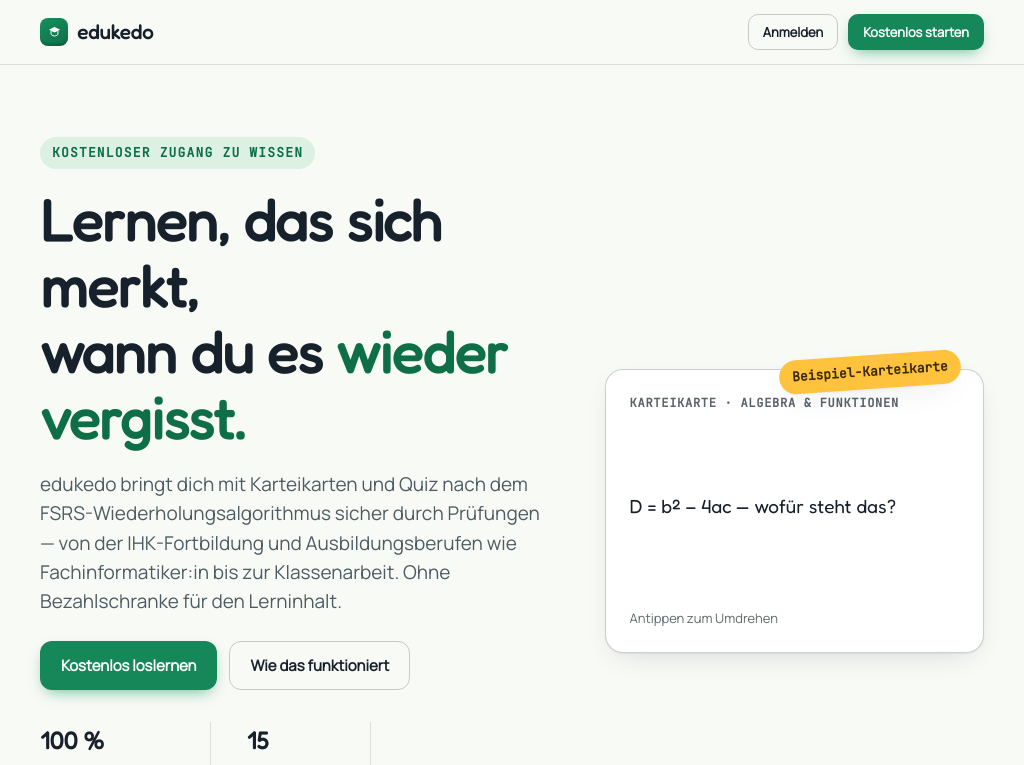
Test: Anmeldung und Registrierung für Gäste (F-08, F-159) › zeigt den Fehler einer fehlgeschlagenen Anmeldung
Click the button "Anmelden".
click(793, 32)  # box [748,14,838,50]
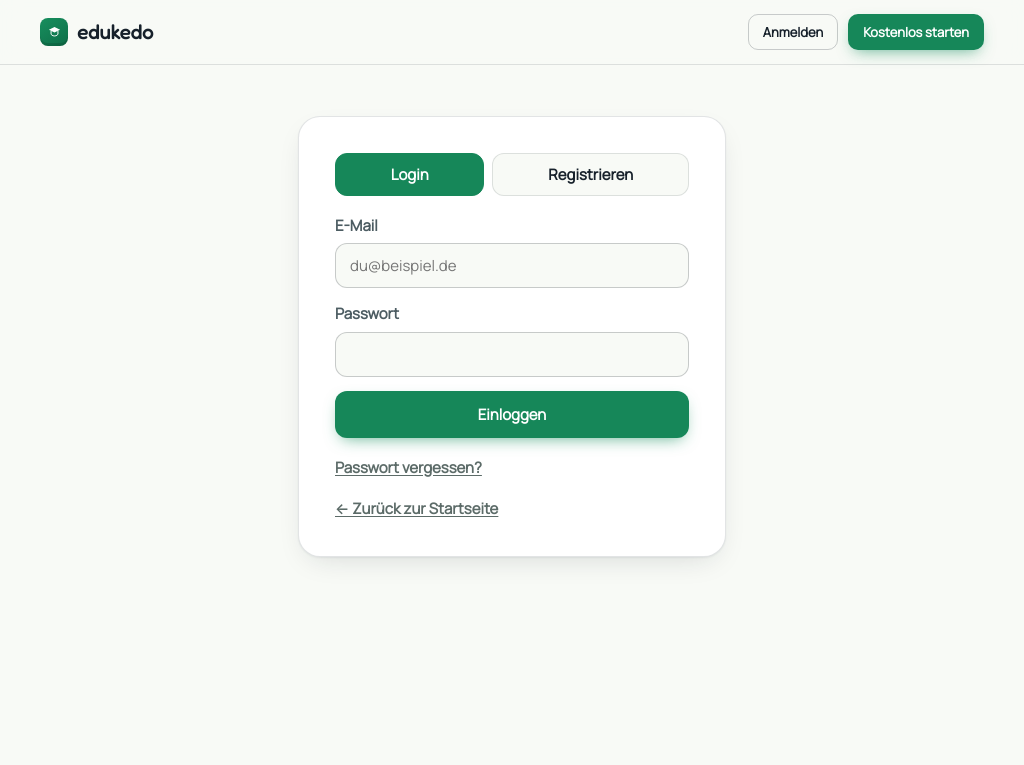
Type "lernende@example.test" into the field labelled "E-Mail".
click(512, 266); type("lernende@example.test")  # box [335,243,689,288]
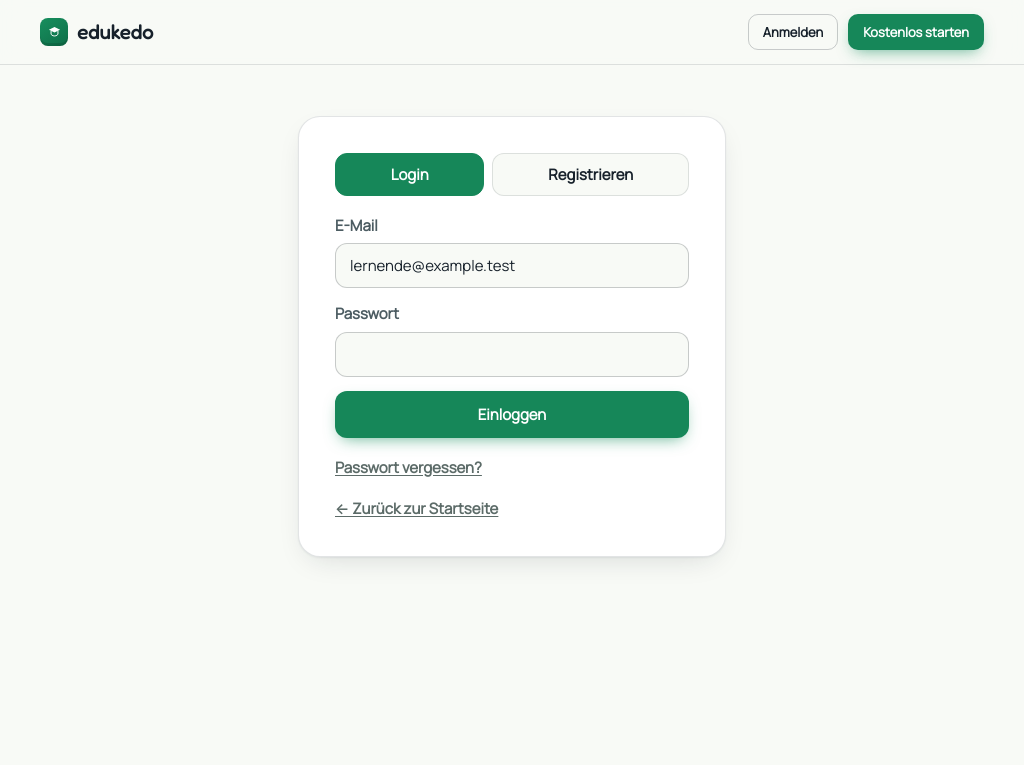
Type "falsches-Passwort" into the password field labelled "Passwort".
click(512, 354); type("falsches-Passwort")  # box [335,332,689,377]
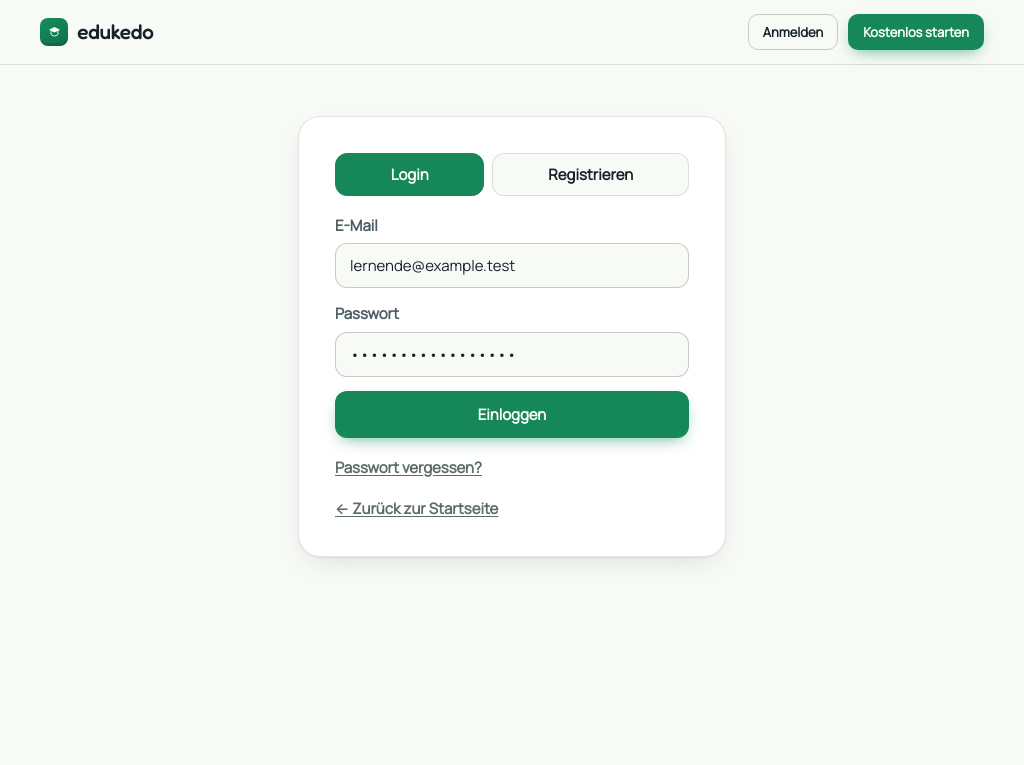
Click the button "Einloggen".
click(512, 414)  # box [335,391,689,438]
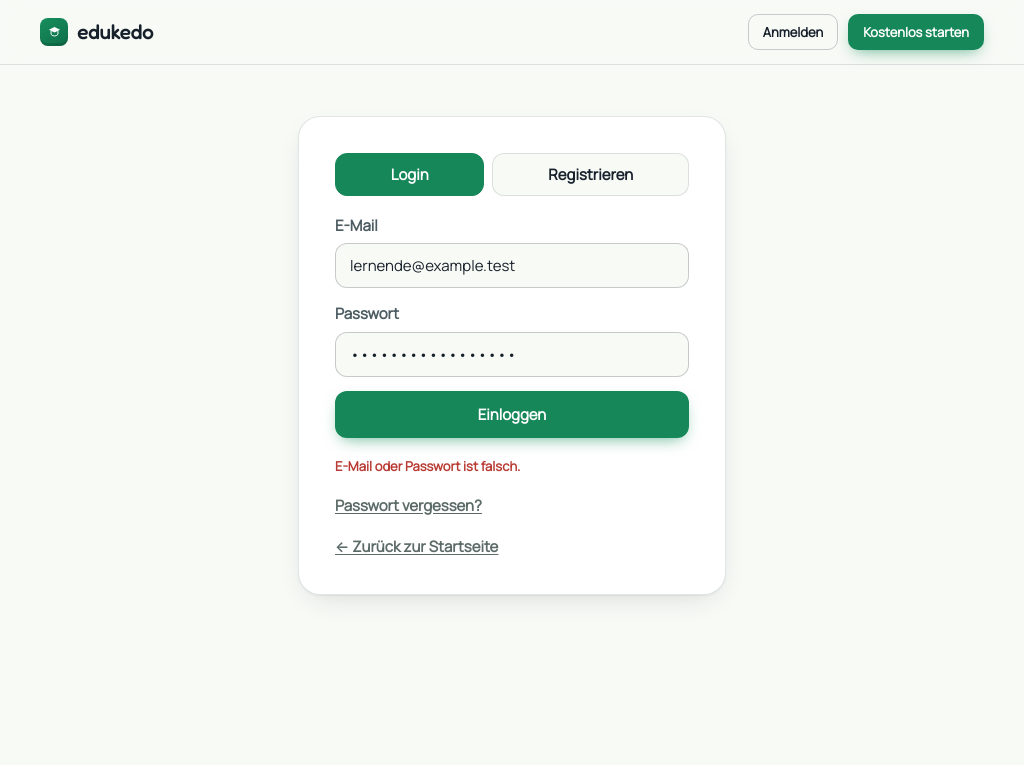
Expected: the text "E-Mail oder Passwort ist falsch." is shown, [335,457,520,475]
